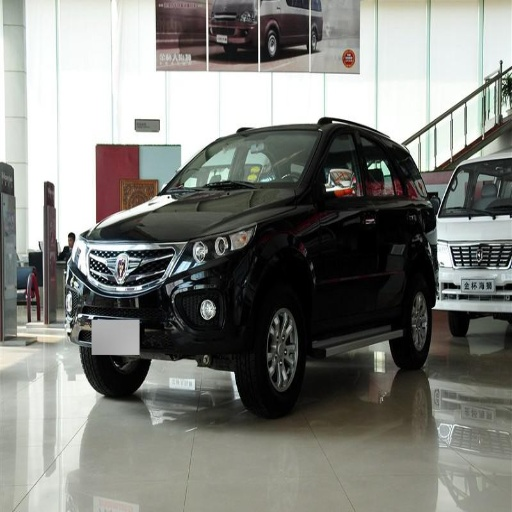front_bumper: (67, 239, 258, 369)
front_glass: (166, 129, 313, 193)
front_left_door: (315, 125, 367, 321)
